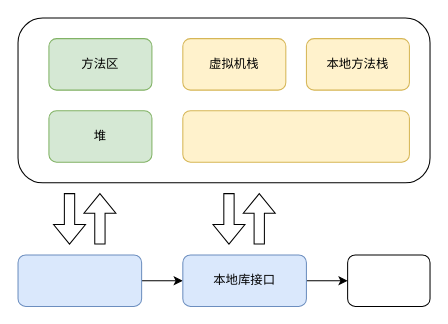
Image size: 448x324. Some labels were removed from this diagram. The shapes that lost their labels are listed below. From the top down, each one's centre as x and y in pixels, then its label:
At point 295,136: "程序计数器".
At point 79,280: "执行引擎".
At point 388,280: "本地方法库".
